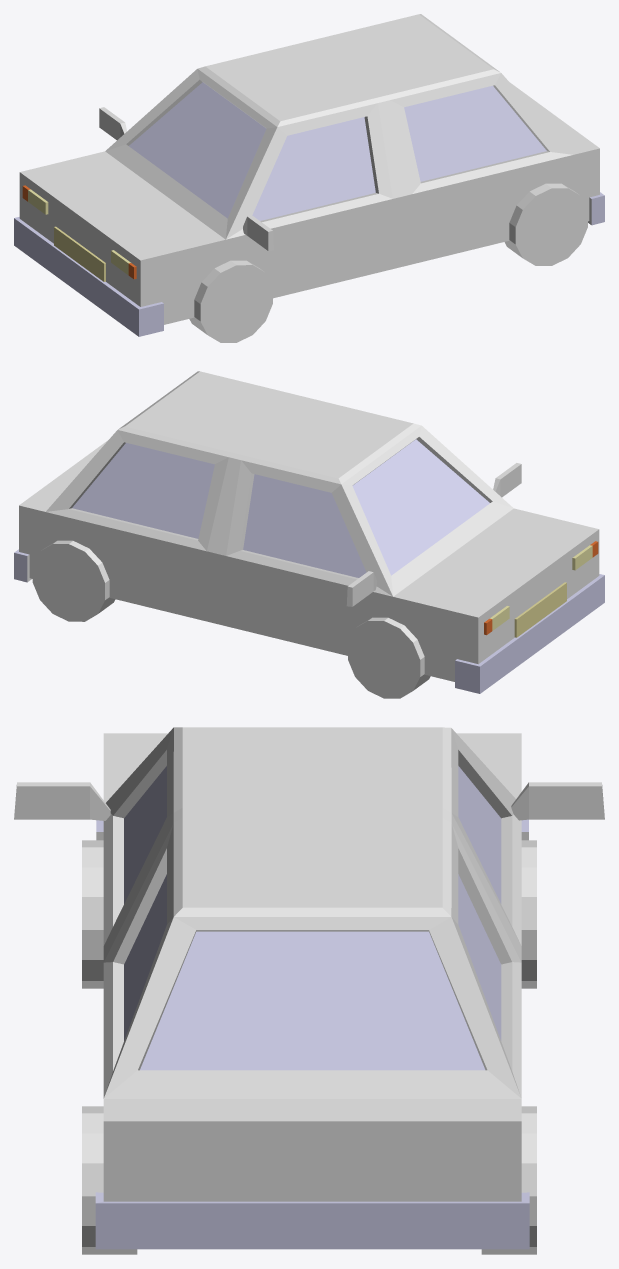
File: car1 (1).fbx
3 renders of one model, top to bottom at view 1: azimuth 30°, elevation 25°; view 2: azimuth 150°, elevation 25°; view 3: azimuth 270°, elevation 25°, orthographic. The views are drawn at different scales.
Parts seen in each view (by area): view 1: Cube, Cube.002, Cube.001, Cube.004, Cube.005, Cube.003; view 2: Cube, Cube.002, Cube.001, Cube.004, Cube.005, Cube.003; view 3: Cube, Cube.004, Cube.001, Cube.002.
Boxes of the visible parts, x1,y1,x2,y2 form: Cube: (14,14,604,336); Cube.002: (504,183,587,265); Cube.001: (189,260,272,342); Cube.004: (99,107,273,250); Cube.005: (54,226,105,281); Cube.003: (22,185,136,279); Cube: (14,371,604,693); Cube.002: (32,540,115,621); Cube.001: (348,617,430,698); Cube.004: (346,463,521,606); Cube.005: (514,582,566,637); Cube.003: (484,541,598,635); Cube: (95,727,529,1249); Cube.004: (14,782,604,820); Cube.001: (82,840,536,988); Cube.002: (82,1106,536,1254).
Size of the model in its own units: 614 by 230 by 390.
